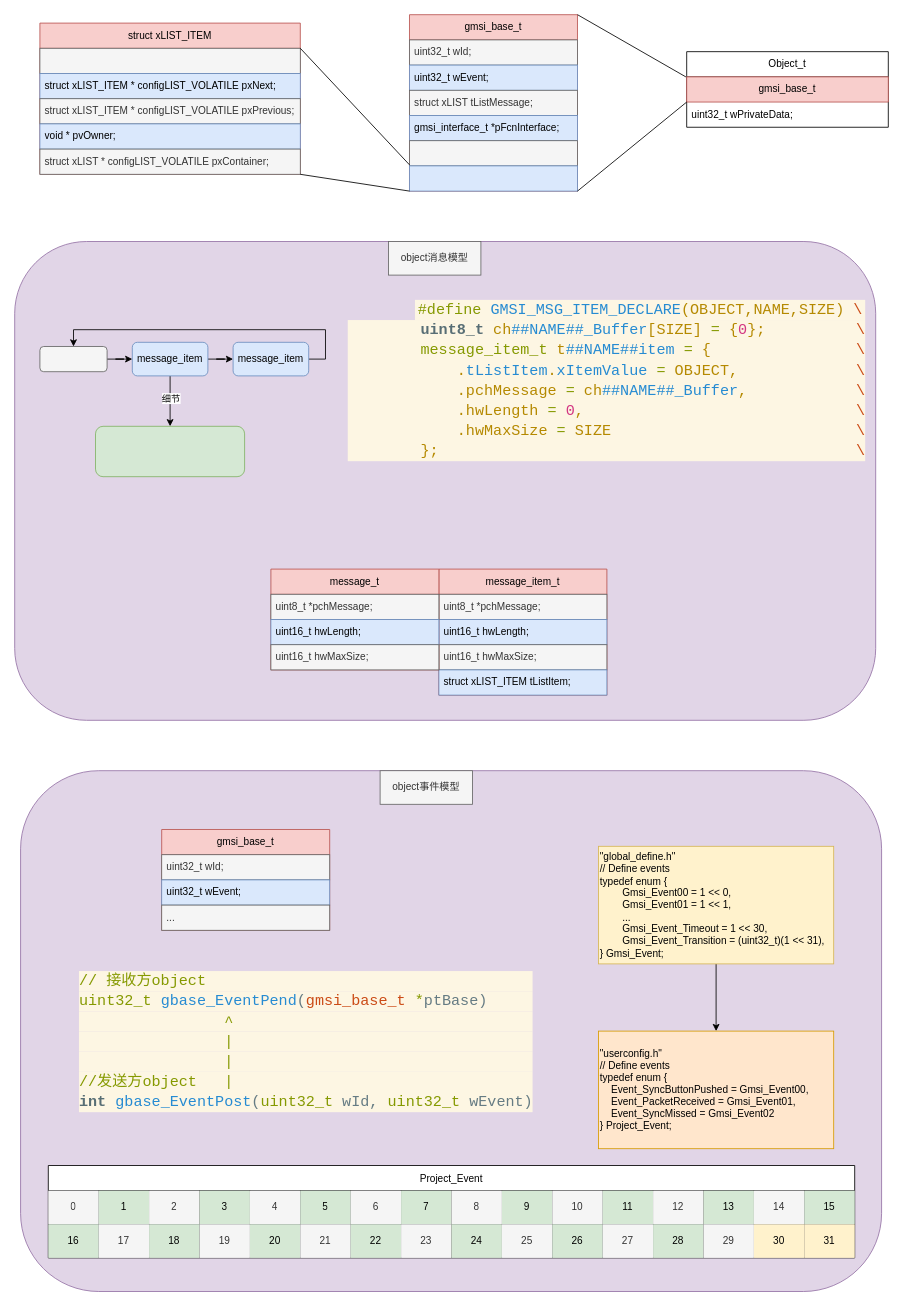
The diagram is 903 pixels wide and 1306 high, and some of its shapes have lost their labels. The shapes that lost their labels are listed below. From the top down, each one's centre as x and y in pixels, then its label:
At (169,60): "configLIST_VOLATILE TickType_t xItemValue;".
At (493,153): "uint32_t wParent;".
At (493,178): "struct xLIST_ITEM tListItem".
At (73,359): "item_head".
At (170,451): "1、消息内容以及长度 2、消息所属id 3、消息状态（应答等）未实现".
